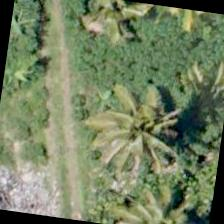Kelapa_Sawit: (93, 84, 195, 186), (112, 175, 210, 223)
